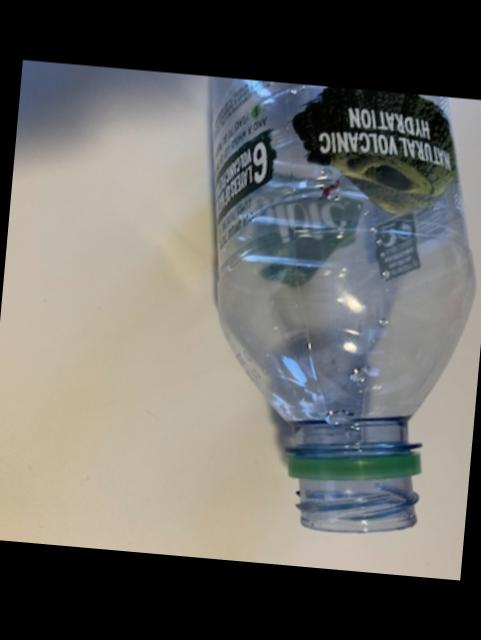plastic: (212, 76, 475, 530)
